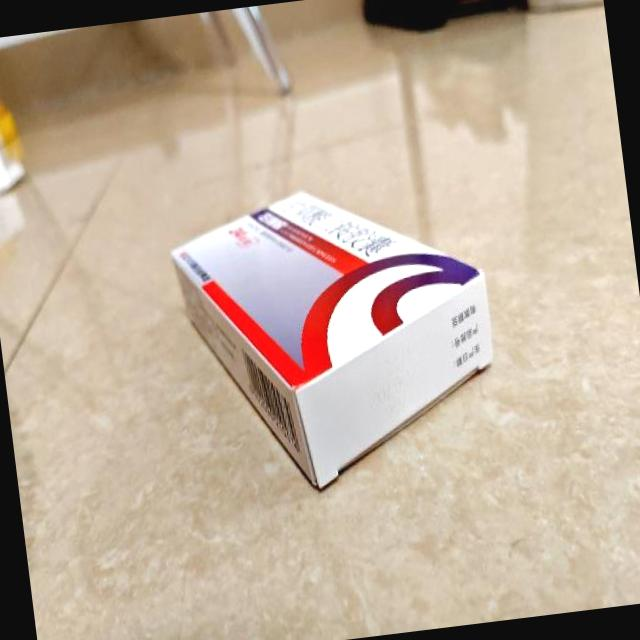box: (165, 168, 508, 505)
